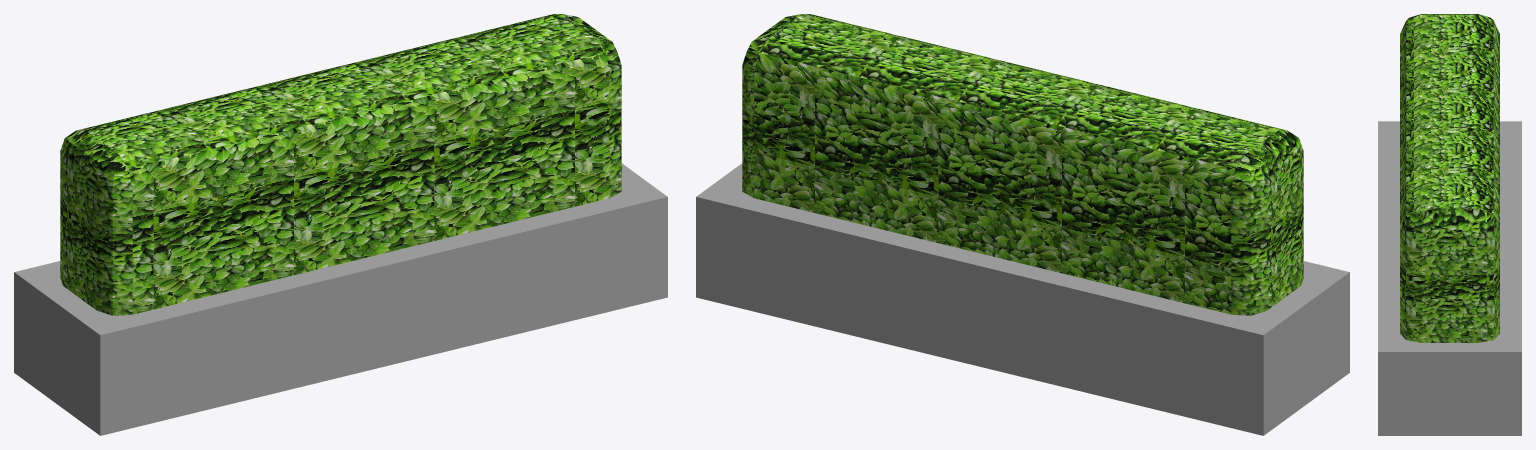
Rendered from BushPlanter.fbx.
3 views of the same model, side by side, from view 1: azimuth 30°, elevation 25°; view 2: azimuth 150°, elevation 25°; view 3: azimuth 270°, elevation 25° (orthographic). The views are drawn at different scales.
Parts seen in each view (by area): view 1: BushPlanter; view 2: BushPlanter; view 3: BushPlanter.
Part boxes in pixels (x1,y1,x2,y2): BushPlanter: (14,14,667,435); BushPlanter: (696,14,1349,435); BushPlanter: (1378,14,1521,435).
Size of the model in its own units: 811 by 342 by 214.
2 materials, 1 textured.
